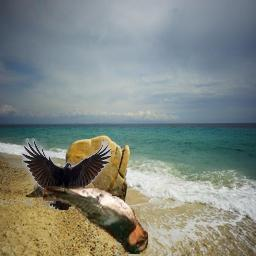Crow: (22, 138, 111, 210)
Swallow: (43, 185, 148, 254)
